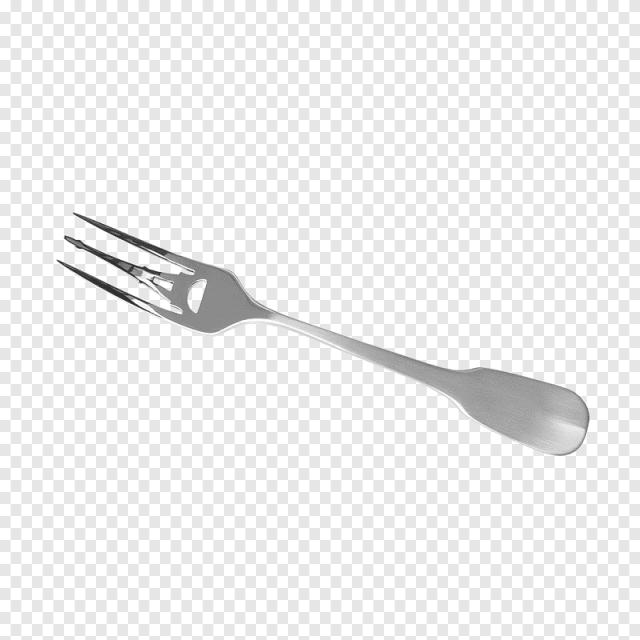Garpu: (45, 197, 613, 499)
